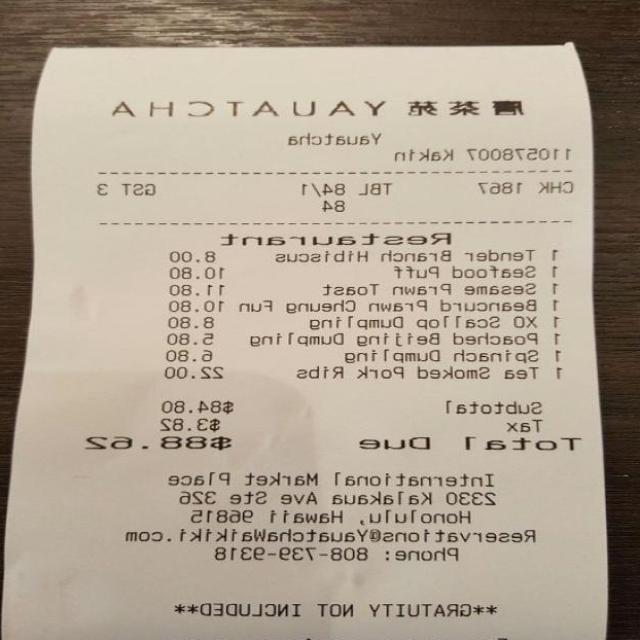kertas: (3, 43, 607, 640)
